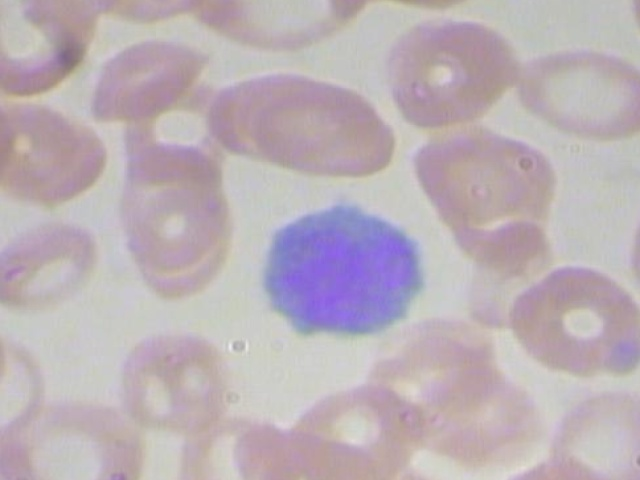Platelets: (633, 160, 640, 204)
RBC: (404, 121, 562, 235), (378, 10, 520, 130), (502, 260, 640, 382), (270, 374, 420, 480), (250, 76, 393, 184), (510, 34, 640, 150), (112, 324, 242, 428), (0, 392, 153, 480), (80, 30, 215, 124), (214, 74, 348, 168), (0, 208, 104, 316), (534, 385, 640, 480), (627, 182, 640, 329)
WBC: (250, 188, 445, 345)
